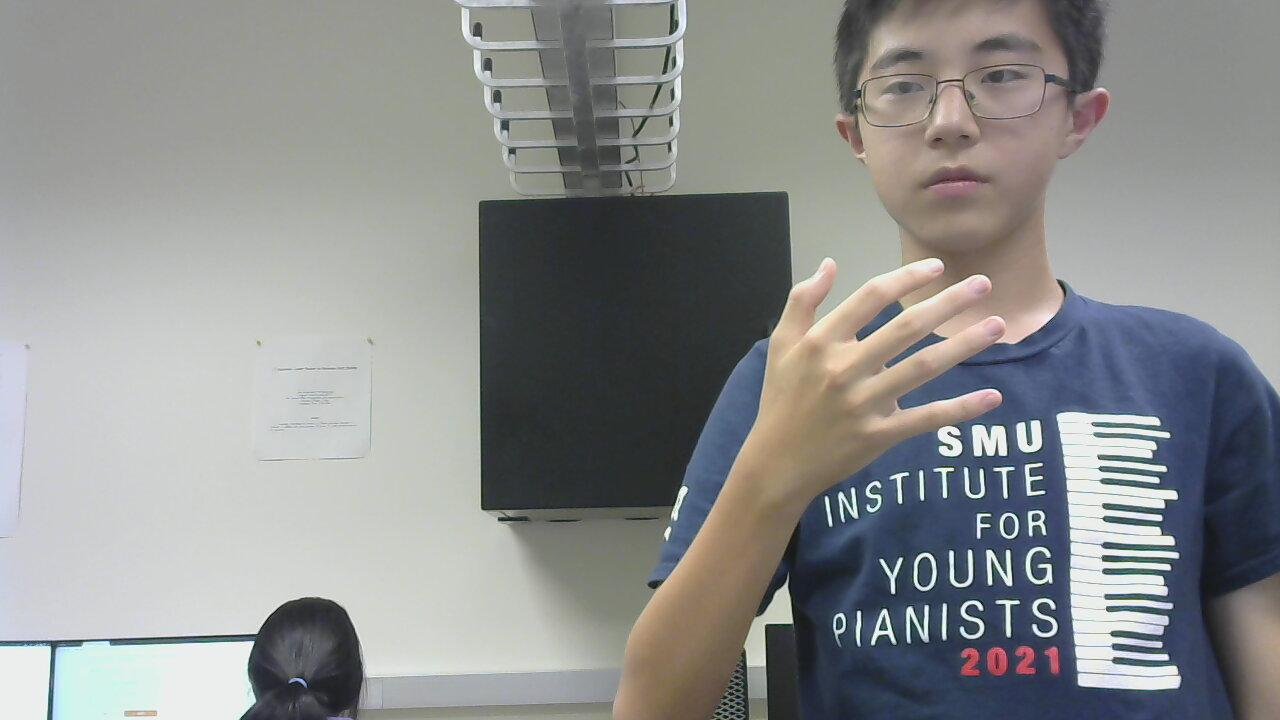hands: (758, 250, 1007, 460)
